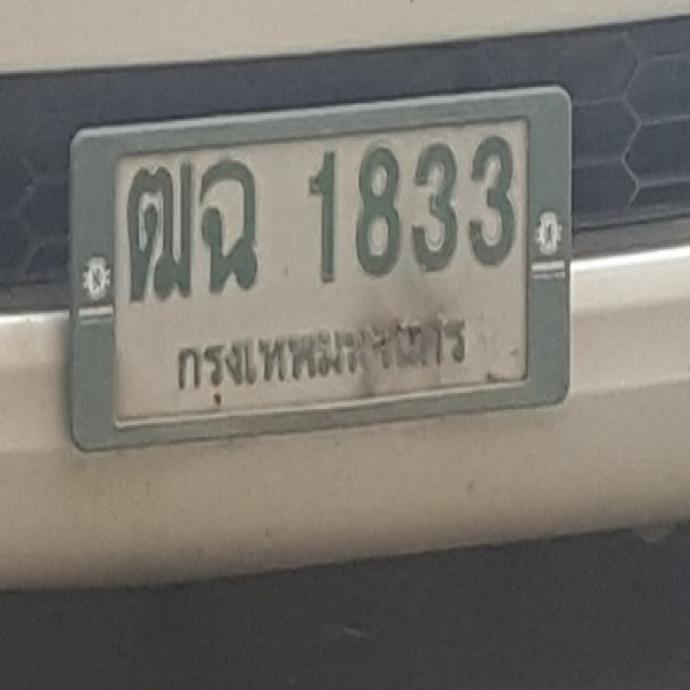1: (302, 146, 337, 285)
3: (406, 138, 460, 278)
8: (466, 136, 521, 271), (355, 140, 404, 282)
A09: (192, 155, 261, 297)
A18: (120, 155, 198, 305)
BKK: (164, 301, 475, 421)
